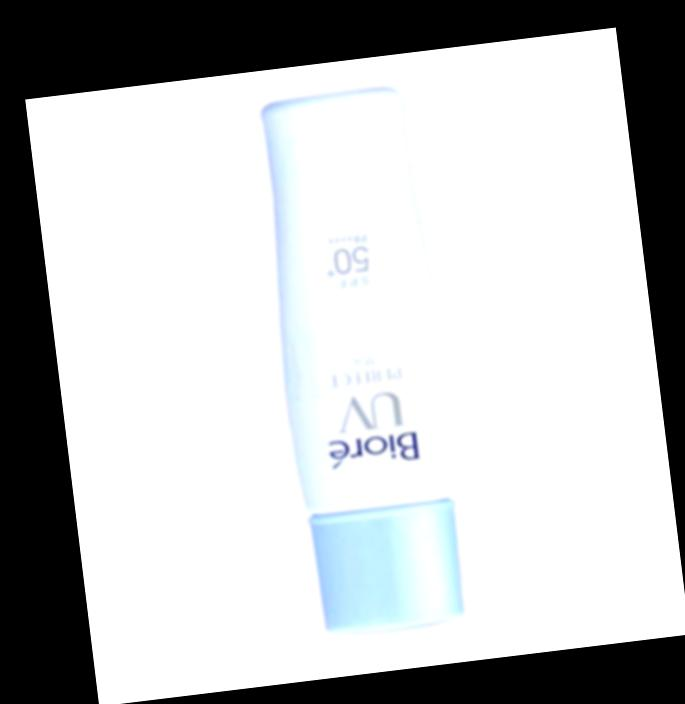cosmetic: (252, 88, 472, 632)
